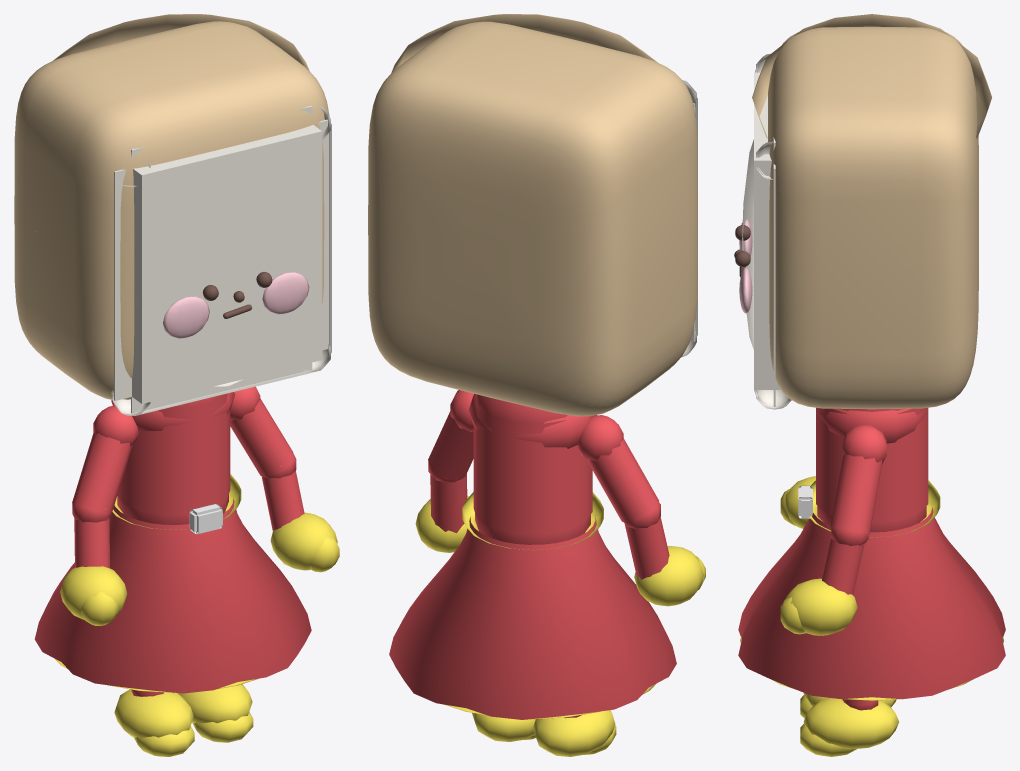
File: SM_BreadLoaf.glb
3 views of the same model, side by side, from view 1: azimuth 30°, elevation 25°; view 2: azimuth 150°, elevation 25°; view 3: azimuth 270°, elevation 25° (orthographic). The views are drawn at different scales.
Visible parts, largest first — view 1: SM_BreadLoaf; view 2: SM_BreadLoaf; view 3: SM_BreadLoaf.
Part boxes in pixels (x1,y1,x2,y2): SM_BreadLoaf: (14, 14, 339, 756); SM_BreadLoaf: (368, 14, 705, 756); SM_BreadLoaf: (734, 14, 1005, 756).
Size of the model in its own units: 0.4182 by 1.04 by 0.3683.
